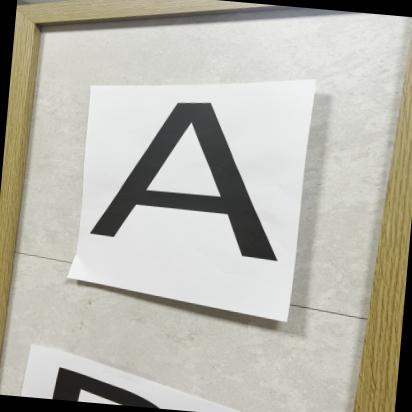seat: (63, 77, 314, 276)
